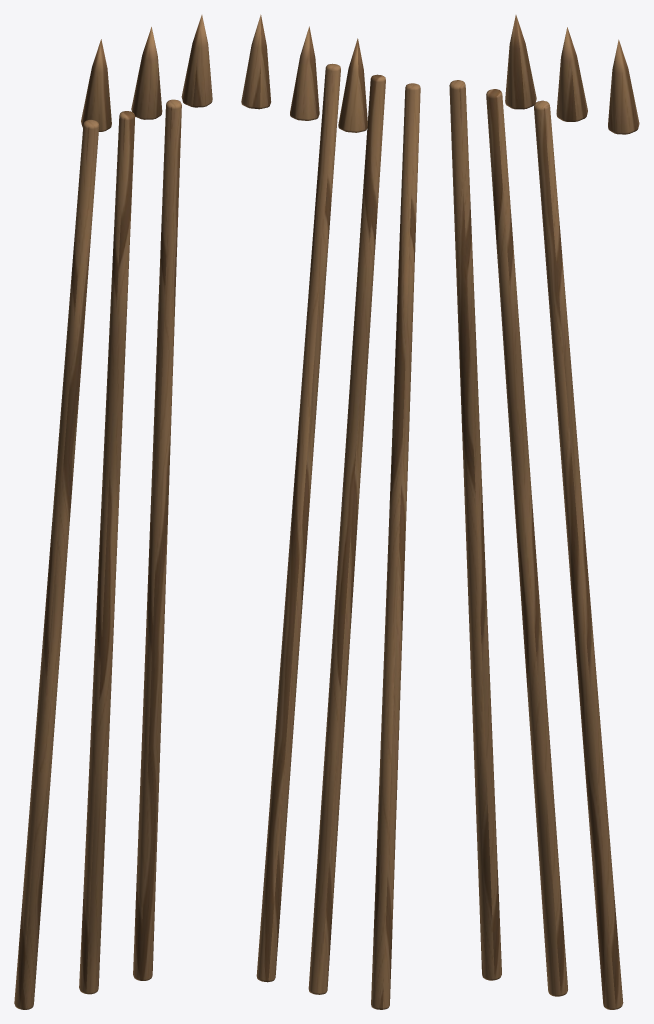
The model's file is p_spears.glb.
The picture shows the model from 3 angles, left to right: view 1: azimuth 30°, elevation 25°; view 2: azimuth 150°, elevation 25°; view 3: azimuth 330°, elevation 25°; orthographic projection. The views are drawn at different scales.
Visible parts, largest first — view 1: spears; view 2: spears; view 3: spears.
Part boxes in pixels (<box>): spears: <box>14,15,212,1009</box>; spears: <box>241,14,420,1009</box>; spears: <box>449,15,639,1009</box>.
Size of the model in its own units: 0.4129 by 2.22 by 0.245.
Materials: 1 (1 with a texture image).
